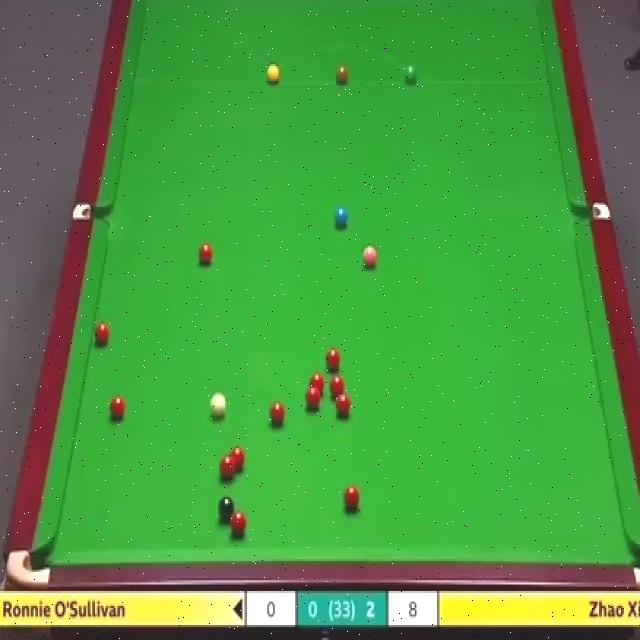black-ball: (218, 496, 234, 520)
blue-ball: (335, 203, 349, 232)
brown-ball: (335, 64, 349, 84)
green-ball: (402, 65, 417, 84)
pink-ball: (362, 247, 378, 271)
red-ball: (230, 507, 248, 538), (106, 392, 125, 420), (324, 347, 343, 371), (219, 454, 237, 479), (269, 399, 285, 425), (335, 390, 350, 417), (306, 388, 323, 411), (346, 486, 360, 512), (230, 446, 245, 470), (308, 372, 325, 393), (94, 321, 108, 346), (330, 375, 345, 398), (198, 245, 213, 264)
white-ball: (210, 390, 227, 420)
yellow-ball: (266, 64, 280, 84)
